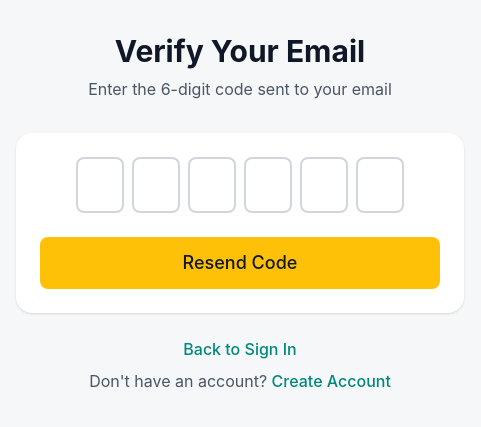
Test: VerifyEmail › Error Message Display › displays error when trying to resend without email
This screenshot has width=481, height=427.
Click the button "Resend Code" at {"x": 240, "y": 263}, box [40,237,440,289]
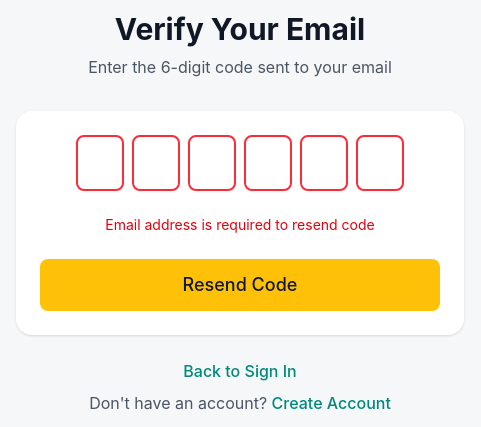
Result: the text "Email address is required to resend code" is shown at [105,216,375,233]
